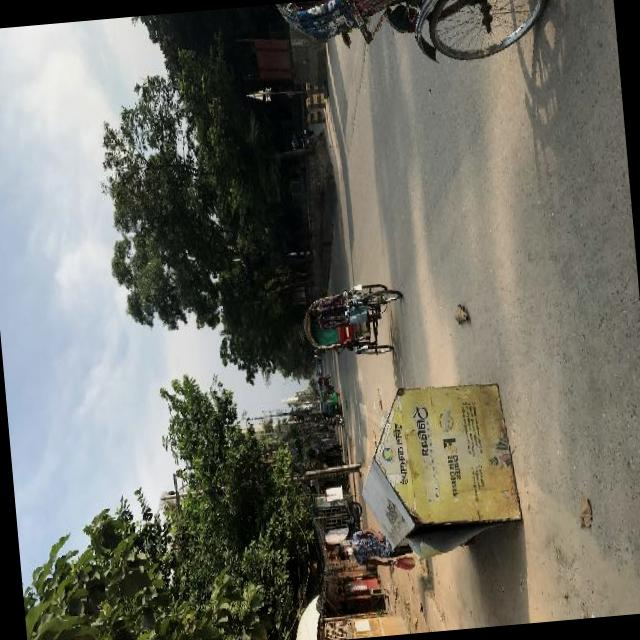motorcycle: (273, 0, 560, 81), (300, 278, 403, 346), (317, 389, 342, 414), (316, 371, 334, 390), (291, 126, 313, 140), (327, 413, 344, 424)
